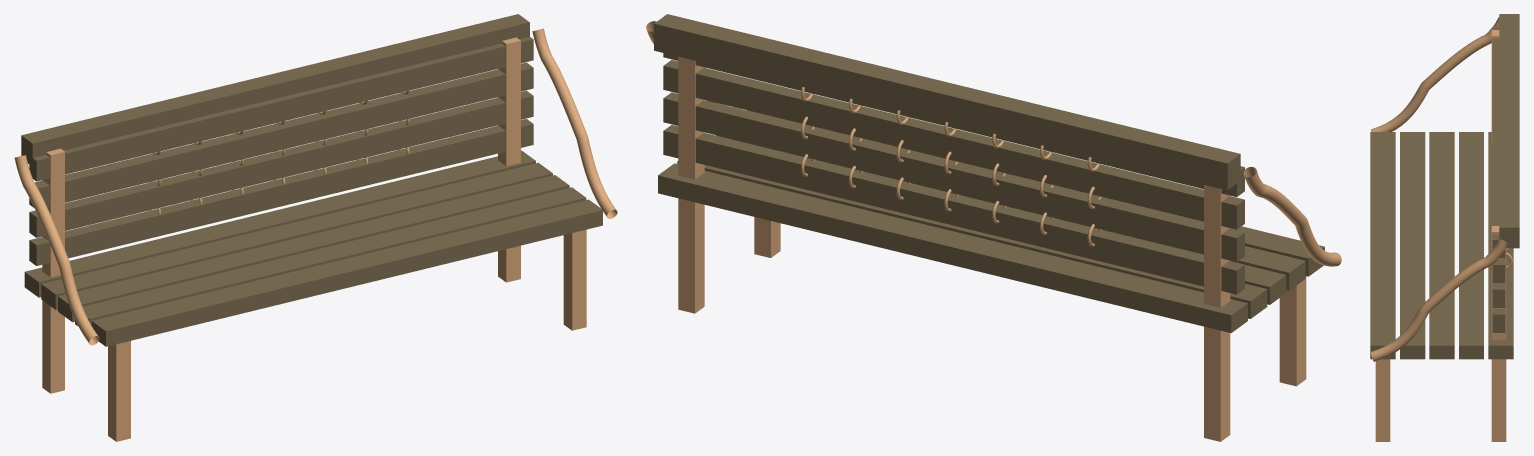
3 renders of one model, left to right at view 1: azimuth 30°, elevation 25°; view 2: azimuth 150°, elevation 25°; view 3: azimuth 270°, elevation 25°, orthographic. The views are drawn at different scales.
Parts seen in each view (by area): view 1: Cube, Cube.006, Cube.005, Cube.007, Cube.008, Cube.009, Cube.003, Cube.002, Cube.001, Cube.004, Cube.012, Cube.013 (+4 smaller); view 2: Cube.005, Cube.004, Cube.007, Cube.006, Cube.008, Cube.013, Cube.012, Cube.003, Cube.009, Cube.010, BézierCurve, Cube (+3 smaller); view 3: Cube, Cube.002, Cube.001, Cube.003, Cube.005, Cube.004, BézierCurve.001, Cube.013, BézierCurve, Cube.009, Cube.011, Cube.006 (+3 smaller).
Boxes of the visible parts, box(x1,y1,x2,y2) form: Cube: box(91, 199, 602, 346); Cube.006: box(29, 119, 533, 265); Cube.005: box(21, 14, 529, 166); Cube.007: box(29, 90, 533, 237); Cube.008: box(29, 62, 533, 207); Cube.009: box(29, 36, 533, 181); Cube.003: box(41, 162, 552, 309); Cube.002: box(58, 175, 569, 322); Cube.001: box(75, 187, 586, 326); Cube.004: box(24, 150, 535, 297); Cube.012: box(42, 148, 64, 393); Cube.013: box(498, 37, 520, 282); Cube.005: box(654, 14, 1240, 190); Cube.004: box(658, 163, 1247, 332); Cube.007: box(663, 92, 1244, 261); Cube.006: box(663, 125, 1244, 294); Cube.008: box(663, 60, 1244, 229); Cube.013: box(678, 56, 704, 313); Cube.012: box(1204, 185, 1230, 441); Cube.003: box(677, 161, 1267, 318); Cube.009: box(663, 53, 1244, 196); Cube.010: box(1279, 276, 1306, 386); BézierCurve: box(1243, 167, 1341, 266); Cube: box(747, 110, 1324, 276); Cube: box(1370, 132, 1395, 359); Cube.002: box(1429, 132, 1454, 359); Cube.001: box(1400, 132, 1425, 359); Cube.003: box(1459, 132, 1483, 359); Cube.005: box(1499, 14, 1519, 248); Cube.004: box(1488, 132, 1513, 359); BézierCurve.001: box(1371, 239, 1507, 361); Cube.013: box(1491, 226, 1506, 441); BézierCurve: box(1371, 17, 1499, 131); Cube.009: box(1492, 26, 1505, 258); Cube.011: box(1375, 359, 1390, 441); Cube.006: box(1492, 308, 1505, 332).
Size of the model in its own units: 2.55 by 1.15 by 0.708.
